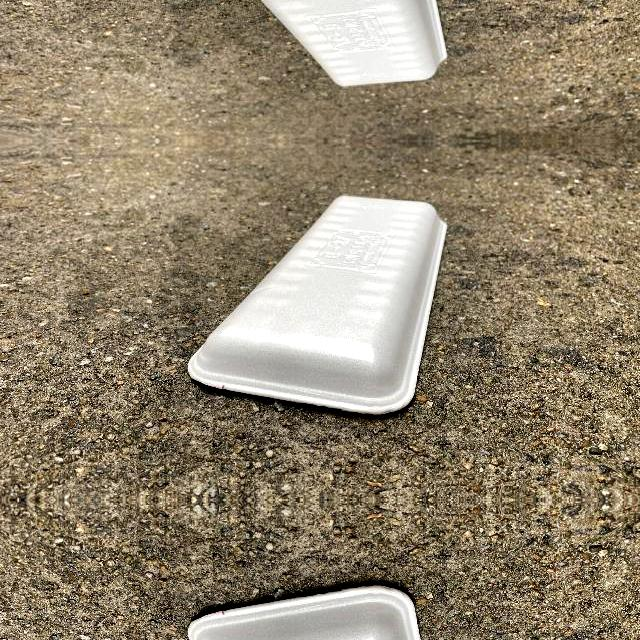Styrofoam: (188, 194, 447, 414), (188, 194, 446, 414), (187, 0, 446, 86), (262, 0, 447, 86), (187, 584, 446, 640), (188, 584, 422, 640)
